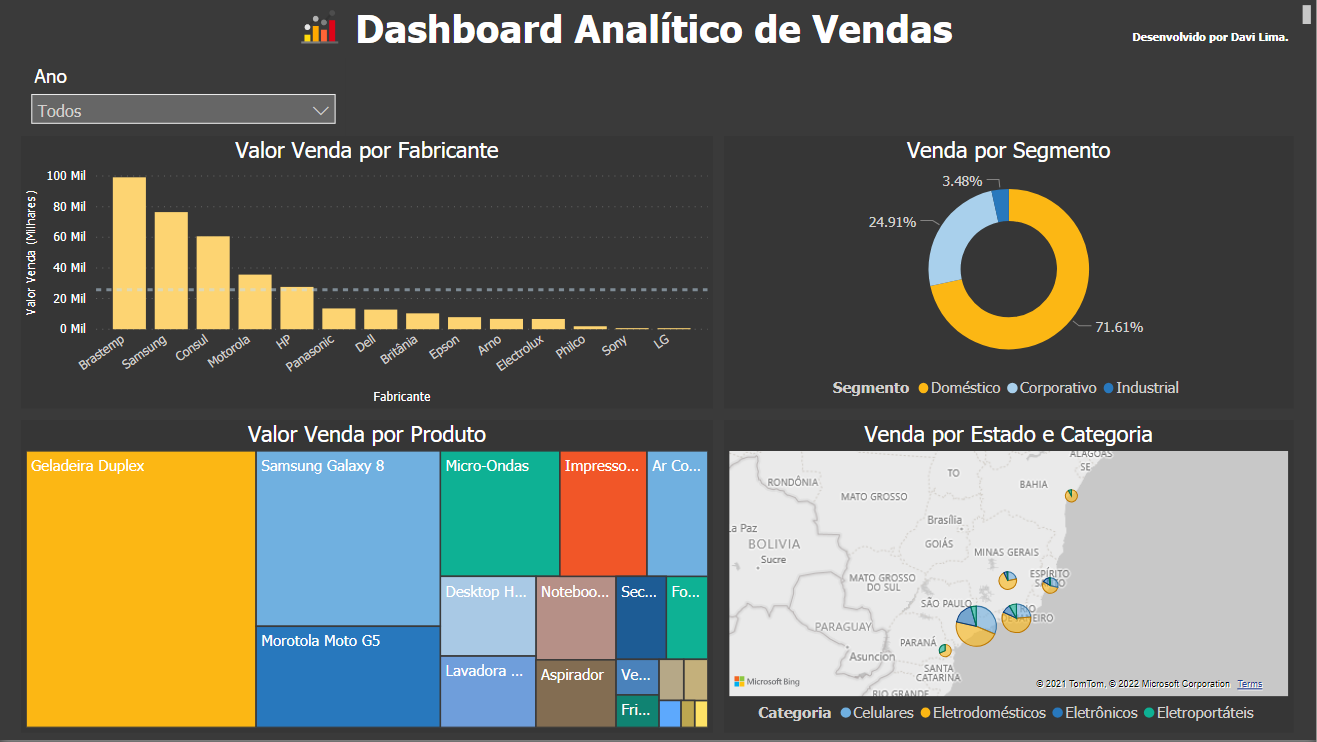

This screenshot's page, from the dashboard's own definition file:
{"tool":"powerbi","page":{"name":"Página 1","canvas":[1280,720],"ordinal":0},"visuals":[{"type":"clusteredColumnChart","title":"Valor Venda por Fabricante","fields":{"Category":["DIM_Produto.Fabricante"],"Y":["Sum(TBL_Vendas.ValorVenda)"]},"box":[20.7,132,672.8,264.8],"z":0},{"type":"donutChart","title":"Venda por Segmento","fields":{"Y":["Sum(TBL_Vendas.ValorVenda)"],"Category":["DIM_Produto.Segmento"]},"box":[703.8,132,553.7,264.8],"z":1000},{"type":"map","title":"Venda por Estado e Categoria","fields":{"Category":["DIM_Loja.Estado"],"Size":["Sum(TBL_Vendas.ValorVenda)"],"Series":["DIM_Produto.Categoria"]},"box":[703.8,408.8,553.7,304.5],"z":2000},{"type":"treemap","title":"Valor Venda por Produto","fields":{"Values":["Sum(TBL_Vendas.ValorVenda)"],"Group":["DIM_Produto.Produto"]},"box":[20.7,408.8,672.8,304.5],"z":3000},{"type":"slicer","fields":{"Values":["DIM_Calendario.Data Venda.Variation.Hierarquia de datas.Ano"]},"box":[20.7,56.1,315.7,75.9],"z":3001},{"type":"textbox","box":[0,0,1280,48.3],"z":3002},{"type":"image","box":[284,2.9,52.5,45.7],"z":3003},{"type":"textbox","box":[1096.2,23.3,183.8,25.3],"z":3004}]}

Visuals, with their boxes in screenshot pixels (x1, y1, x2, y2), scaled from the page's 1280x720 canvas onto the 1317x742 screenshot:
"Valor Venda por Fabricante" clusteredColumnChart: bbox=[21, 136, 714, 409]
"Venda por Segmento" donutChart: bbox=[724, 136, 1294, 409]
"Venda por Estado e Categoria" map: bbox=[724, 421, 1294, 735]
"Valor Venda por Produto" treemap: bbox=[21, 421, 714, 735]
slicer - DIM_Calendario.Data Venda.Variation.Hierarquia de datas.Ano: bbox=[21, 58, 346, 136]
textbox: bbox=[0, 0, 1316, 50]
image: bbox=[292, 3, 346, 50]
textbox: bbox=[1128, 24, 1316, 50]
